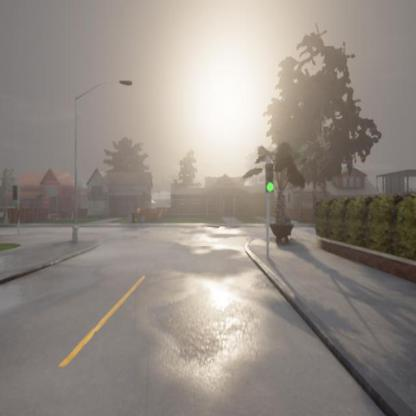traffic_light_green: (264, 160, 274, 192)
